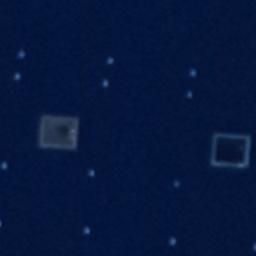square_cover: (206, 128, 254, 172), (35, 110, 82, 153)
